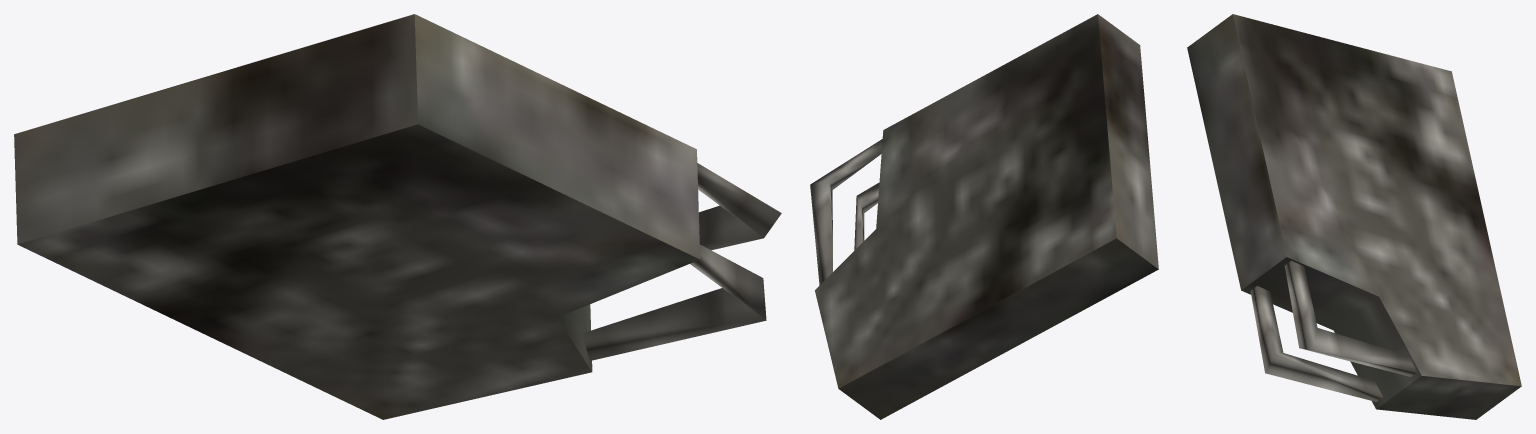
The model's file is prop_german_armored_car_piece1.glb.
The picture shows the model from 3 angles, left to right: view 1: azimuth 30°, elevation 25°; view 2: azimuth 150°, elevation 25°; view 3: azimuth 270°, elevation 25°; orthographic projection. The views are drawn at different scales.
Bounding box in the file's own units: 21.44 × 17.88 × 15.25.
Materials: 1 (1 with a texture image).
